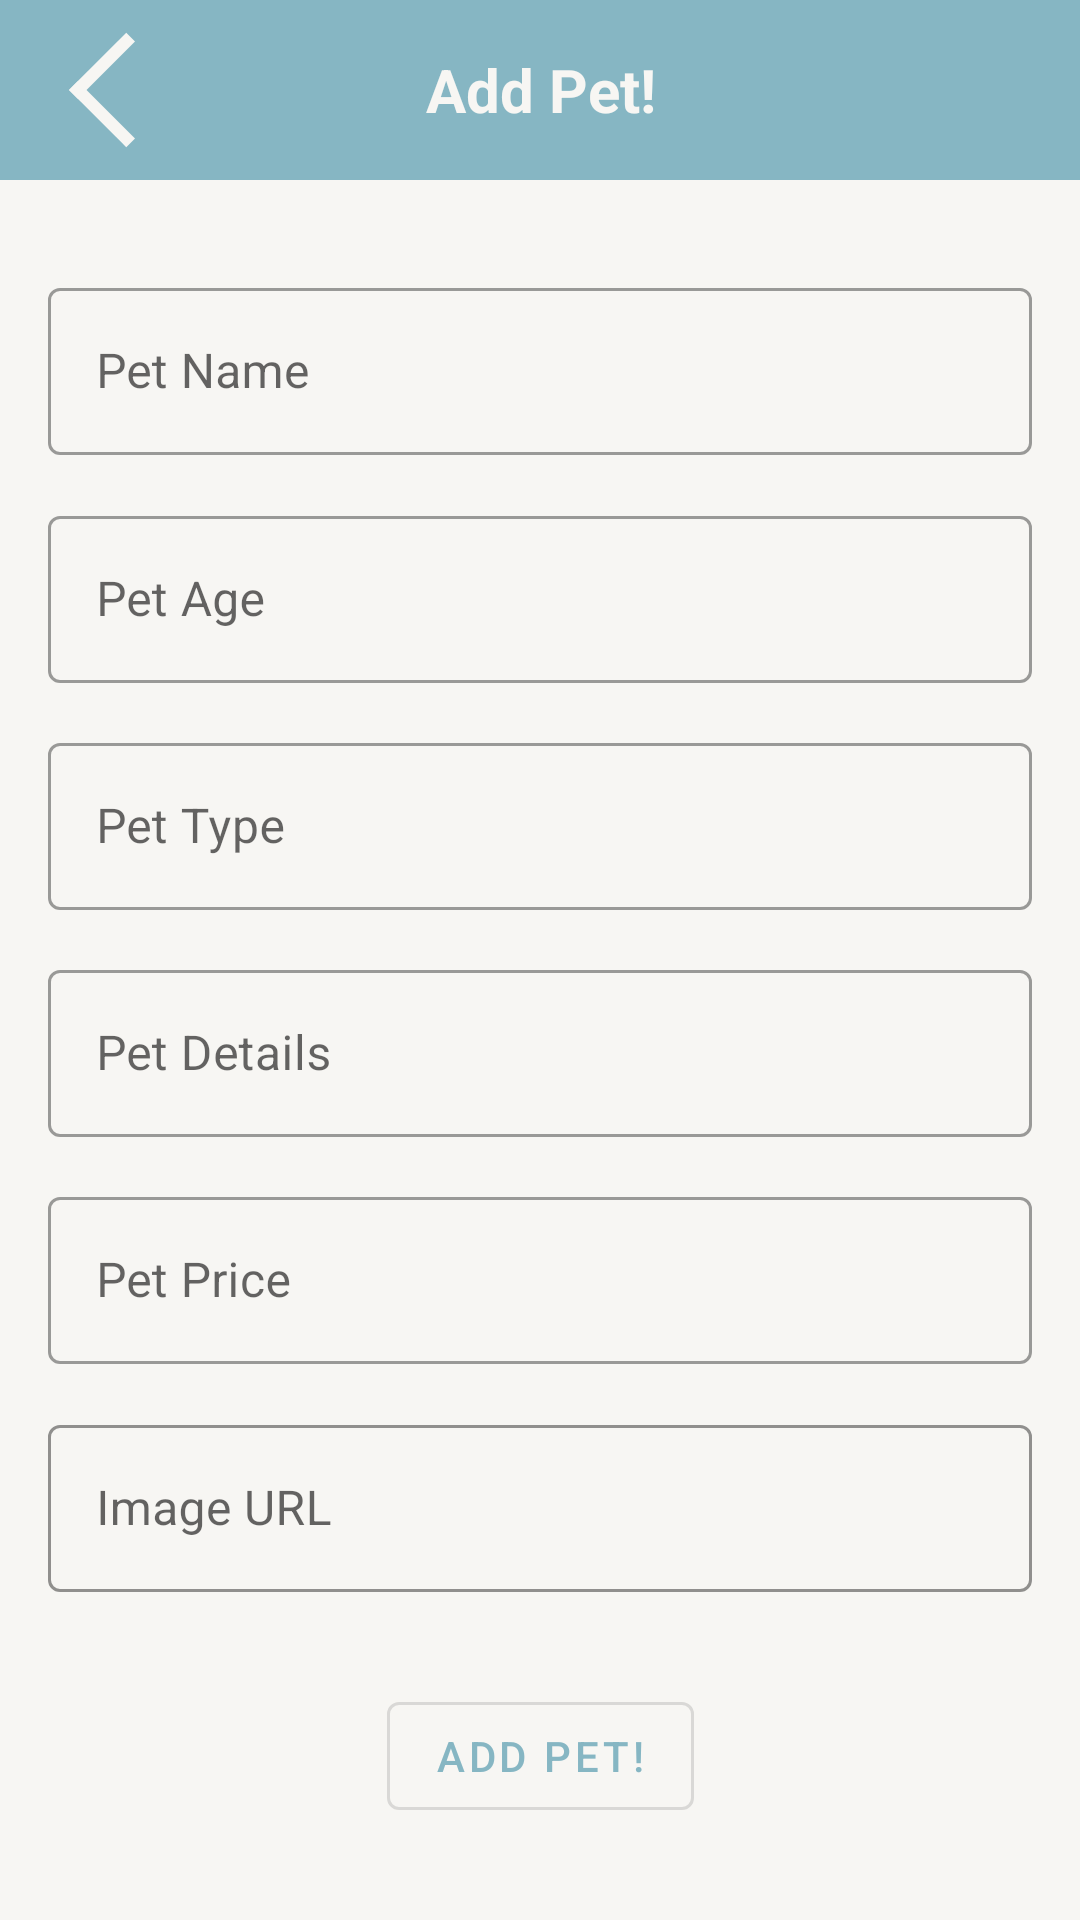

Screen size 1080px x 1920px. Icon name, then its box in pixels as (x1, y1, x2, y2):
previous: (69, 33, 135, 147)
